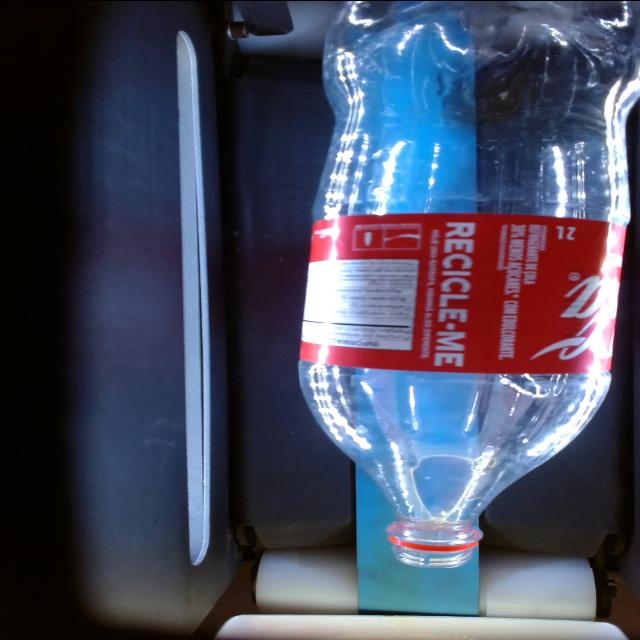bottle: (300, 1, 637, 566)
